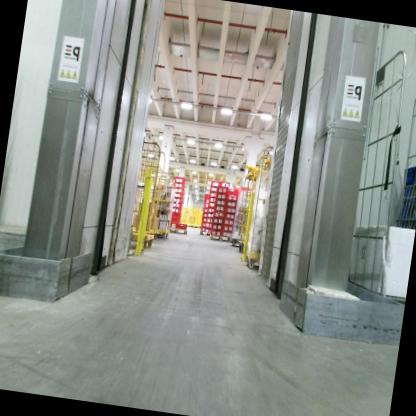pallet: (209, 233, 232, 243), (166, 226, 187, 236), (198, 229, 212, 237)
small_load_carrier: (237, 185, 252, 196), (214, 184, 229, 193), (225, 192, 238, 202), (214, 191, 228, 200), (172, 187, 185, 196), (214, 198, 227, 207), (222, 217, 235, 226), (227, 187, 240, 196), (224, 199, 238, 207), (174, 175, 186, 184), (173, 180, 185, 189), (176, 221, 188, 230), (211, 217, 224, 225), (210, 223, 223, 231), (221, 225, 234, 233), (224, 206, 237, 214), (213, 205, 225, 213), (209, 229, 222, 236), (172, 191, 183, 199), (169, 211, 180, 219), (212, 212, 224, 219), (223, 212, 235, 219), (199, 226, 211, 233), (210, 178, 220, 186), (221, 231, 232, 238), (170, 215, 179, 223), (168, 221, 177, 229), (170, 206, 180, 213), (206, 202, 216, 209), (172, 197, 183, 203), (171, 202, 182, 208), (204, 216, 213, 223), (219, 181, 229, 187), (209, 190, 216, 198), (203, 193, 210, 201), (208, 197, 217, 203), (205, 211, 214, 217), (205, 221, 212, 228), (209, 185, 217, 191), (206, 206, 214, 212), (203, 201, 209, 208), (200, 221, 206, 227), (201, 213, 207, 218), (201, 217, 206, 222), (203, 208, 208, 213)
